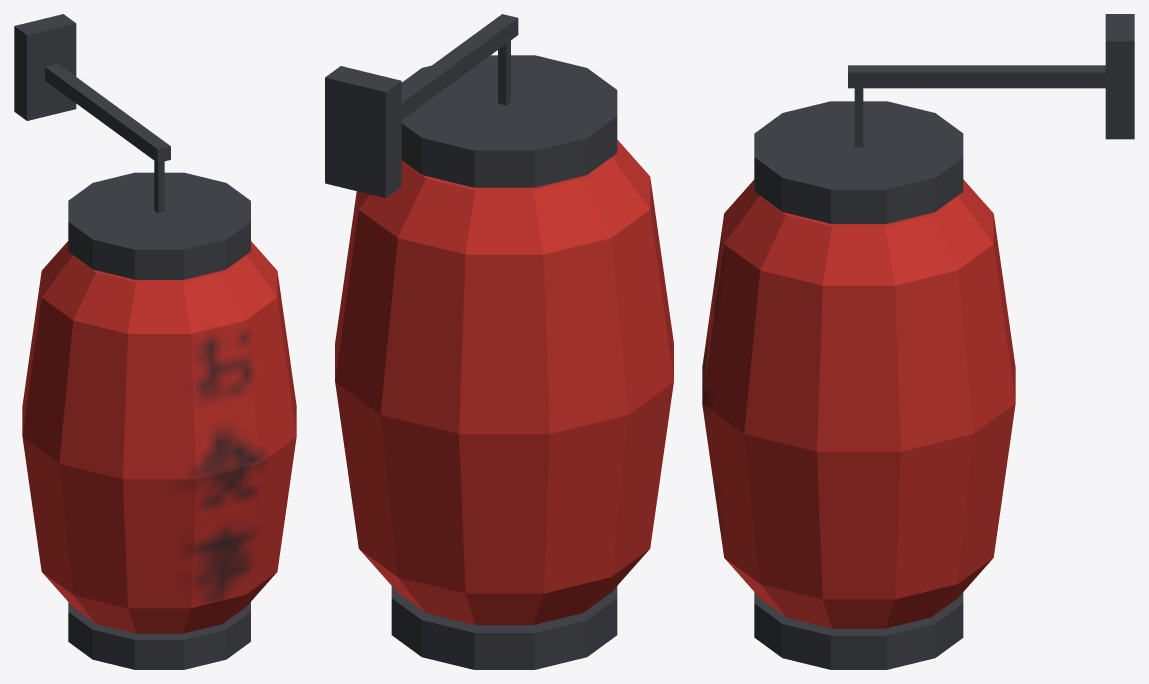
Rendered from SM_Fixture_Chochin_01.fbx.
The picture shows the model from 3 angles, left to right: view 1: azimuth 30°, elevation 25°; view 2: azimuth 150°, elevation 25°; view 3: azimuth 270°, elevation 25°; orthographic projection. The views are drawn at different scales.
Parts seen in each view (by area): view 1: SM_Fixture_Chochin_01; view 2: SM_Fixture_Chochin_01; view 3: SM_Fixture_Chochin_01.
Part boxes in pixels (bbox=[...]): SM_Fixture_Chochin_01: bbox=[14, 14, 296, 669]; SM_Fixture_Chochin_01: bbox=[325, 14, 673, 669]; SM_Fixture_Chochin_01: bbox=[702, 14, 1134, 669].
Size of the model in its own units: 0.2898 by 0.61 by 0.3999.
1 material, 1 textured.
